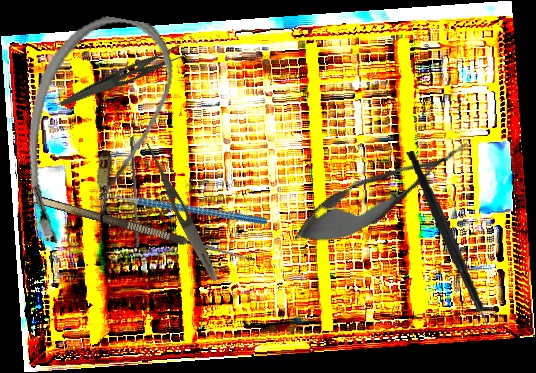Cannula: (10, 6, 183, 258)
Chopper: (89, 142, 269, 281), (405, 145, 507, 344)
Dressing Forceps: (139, 140, 223, 284), (59, 35, 194, 121)
Hook Surgical: (33, 183, 259, 266)
Micro Scissor: (283, 122, 481, 263)
Pusher: (125, 136, 144, 248)
